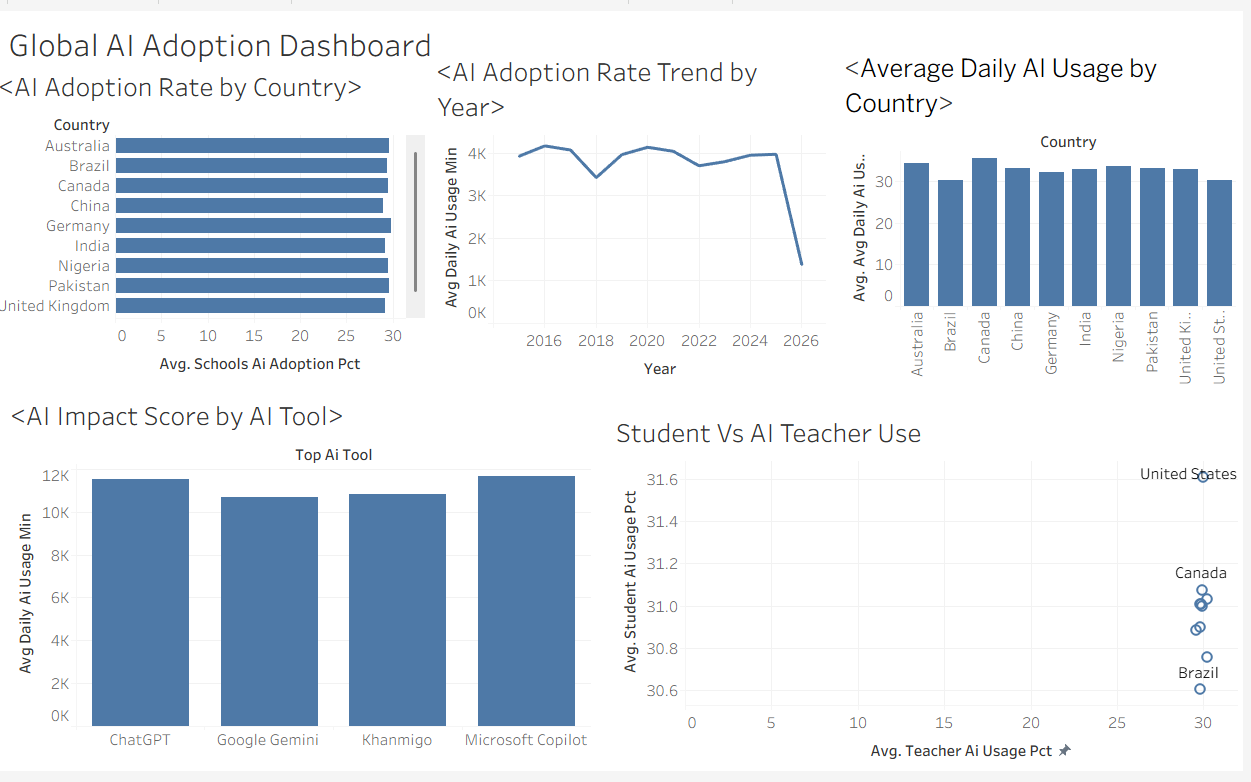

The dashboard page shown, as its layout file describes it:
{"tool":"tableau","page":{"name":"Global AI Adoption Dashboard","canvas":[1000,1000],"units":"permille","ordinal":0},"visuals":[{"type":"worksheet","title":"AI Adoption Rate by Country","mark":"Automatic","rows":["country"],"cols":["avg_daily_ai_usage_min"],"box":[1.5,8.2,344.4,477.7]},{"type":"worksheet","title":"AI Usage Hours by Education Level","mark":"Automatic","rows":["avg_daily_ai_usage_min"],"cols":["education_index"],"box":[678.5,45.8,316.3,447.2]},{"type":"worksheet","title":"AI Adoption Rate Trend by Year","mark":"Automatic","rows":["avg_daily_ai_usage_min"],"cols":["year"],"box":[351.9,51.6,314.8,442.5]},{"type":"worksheet","title":"Student Vs AI Teacher Use","mark":"Automatic","rows":["student_ai_usage_pct"],"cols":["teacher_ai_usage_pct"],"box":[495.6,501.2,500.7,494.1]},{"type":"worksheet","title":"AI Impact Score by AI Tool","mark":"Automatic","rows":["avg_daily_ai_usage_min"],"cols":["top_ai_tool"],"box":[11.1,503.5,467.4,489.4]}]}

Visuals, with their boxes on the dashboard's canvas, which has no fixed pixel size, in thousandths of its width and height (x1, y1, x2, y2). These are canvas units, not pixel positions in the 1251x782 screenshot, which may show the page scaled, cropped or inside an application window:
"AI Adoption Rate by Country" worksheet: 2,8,346,486
"AI Usage Hours by Education Level" worksheet: 678,46,995,493
"AI Adoption Rate Trend by Year" worksheet: 352,52,667,494
"Student Vs AI Teacher Use" worksheet: 496,501,996,995
"AI Impact Score by AI Tool" worksheet: 11,504,478,993
